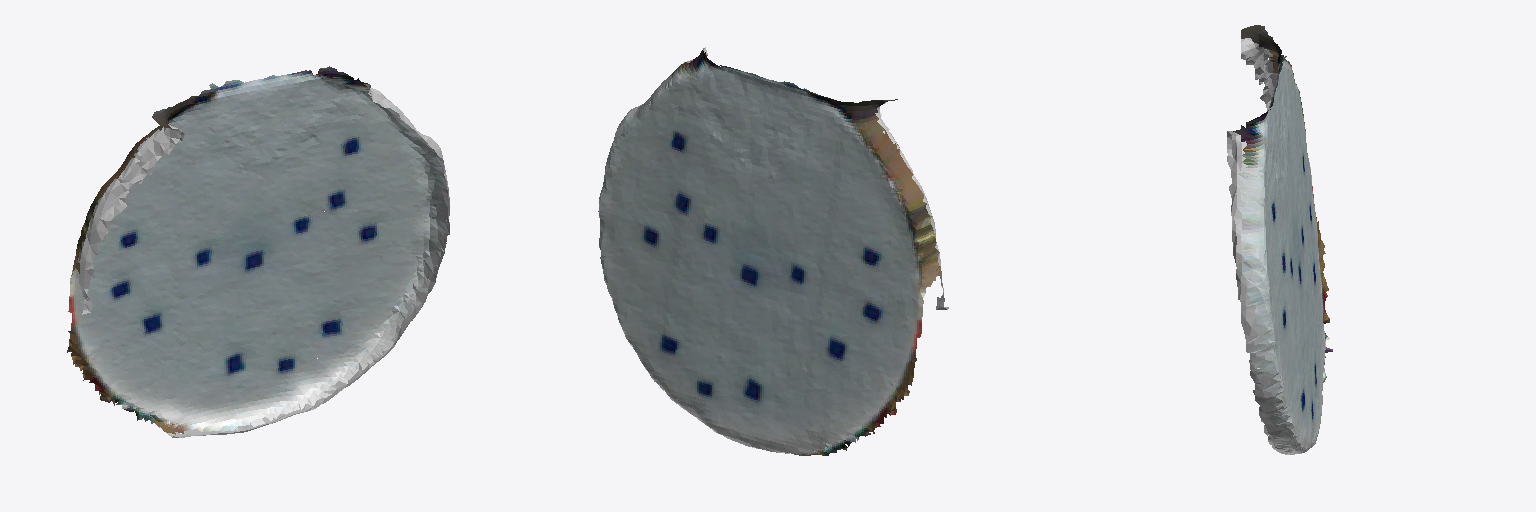
The picture shows the model from 3 angles: view 1: azimuth 30°, elevation 25°; view 2: azimuth 150°, elevation 25°; view 3: azimuth 270°, elevation 25°; orthographic projection.
Bounding box in the file's own units: 0.1749 × 0.17 × 0.0449.
2 materials, 1 textured.